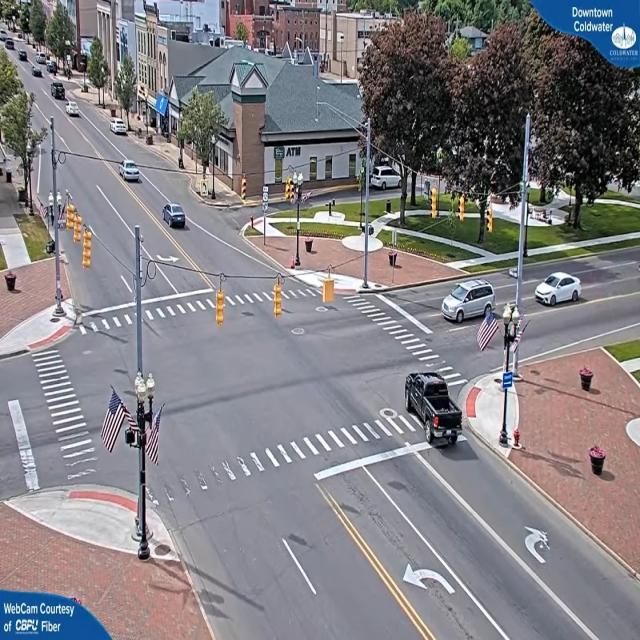car: (404, 370, 463, 448), (442, 278, 496, 326), (535, 272, 583, 308), (164, 204, 188, 231), (118, 162, 142, 184), (112, 121, 129, 136), (52, 84, 66, 101), (66, 102, 79, 116)
